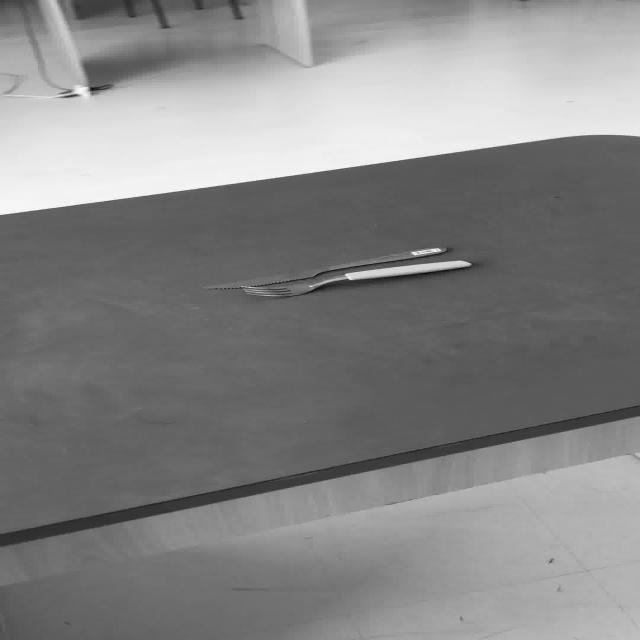fork: (241, 258, 471, 298)
knife fork: (200, 244, 447, 290)
